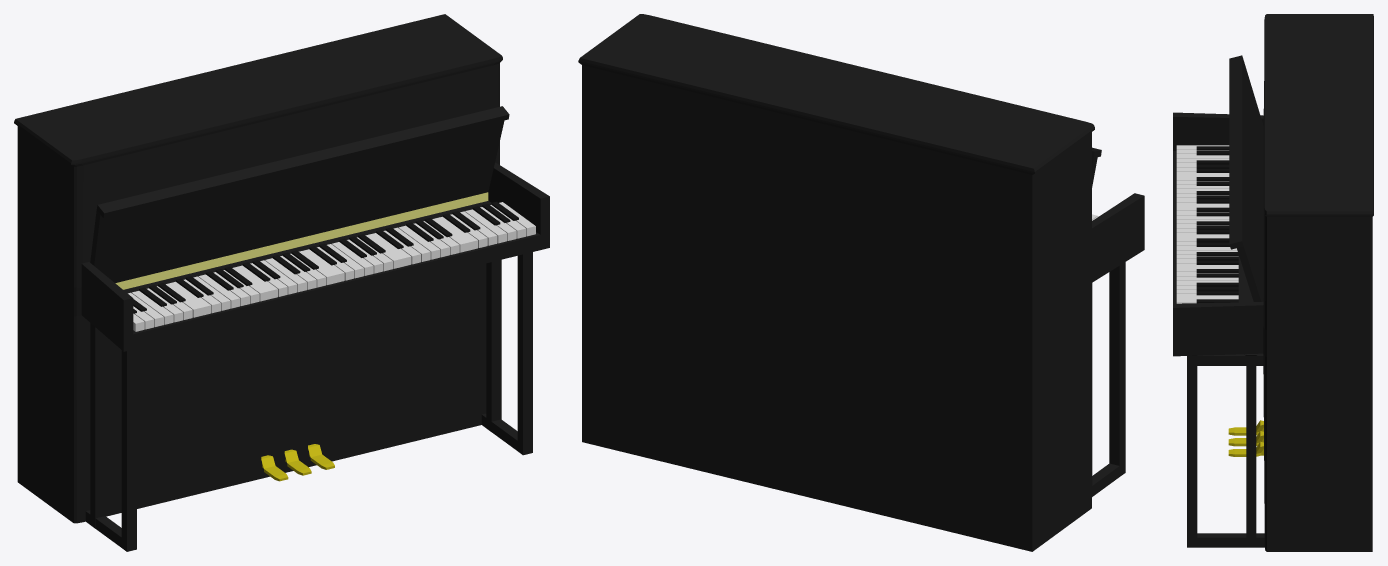
The model's file is Piano1.fbx.
3 views of the same model, side by side, from view 1: azimuth 30°, elevation 25°; view 2: azimuth 150°, elevation 25°; view 3: azimuth 270°, elevation 25° (orthographic). The views are drawn at different scales.
Visible parts, largest first — view 1: 49keysmidi.026; view 2: 49keysmidi.026; view 3: 49keysmidi.026.
Part boxes in pixels (<box>): 49keysmidi.026: <box>14,14,549,551</box>; 49keysmidi.026: <box>578,14,1144,551</box>; 49keysmidi.026: <box>1173,14,1373,551</box>.
Bounding box in the file's own units: 152 × 122 × 65.1.
